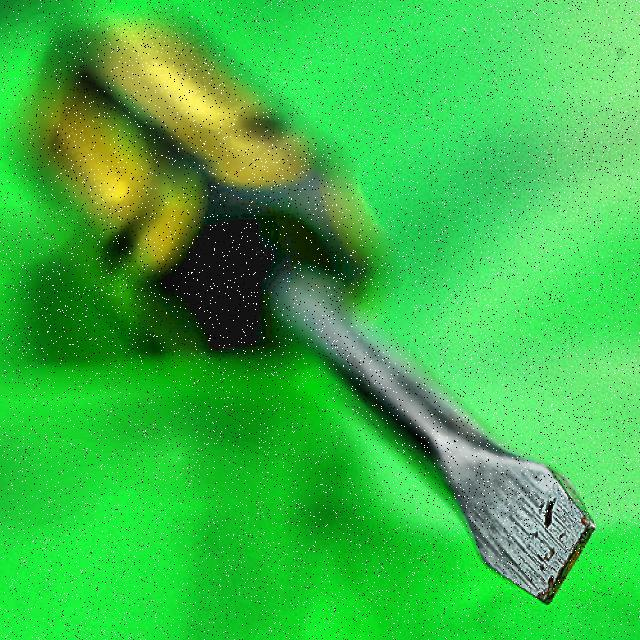screwdriver: (44, 25, 594, 604)
